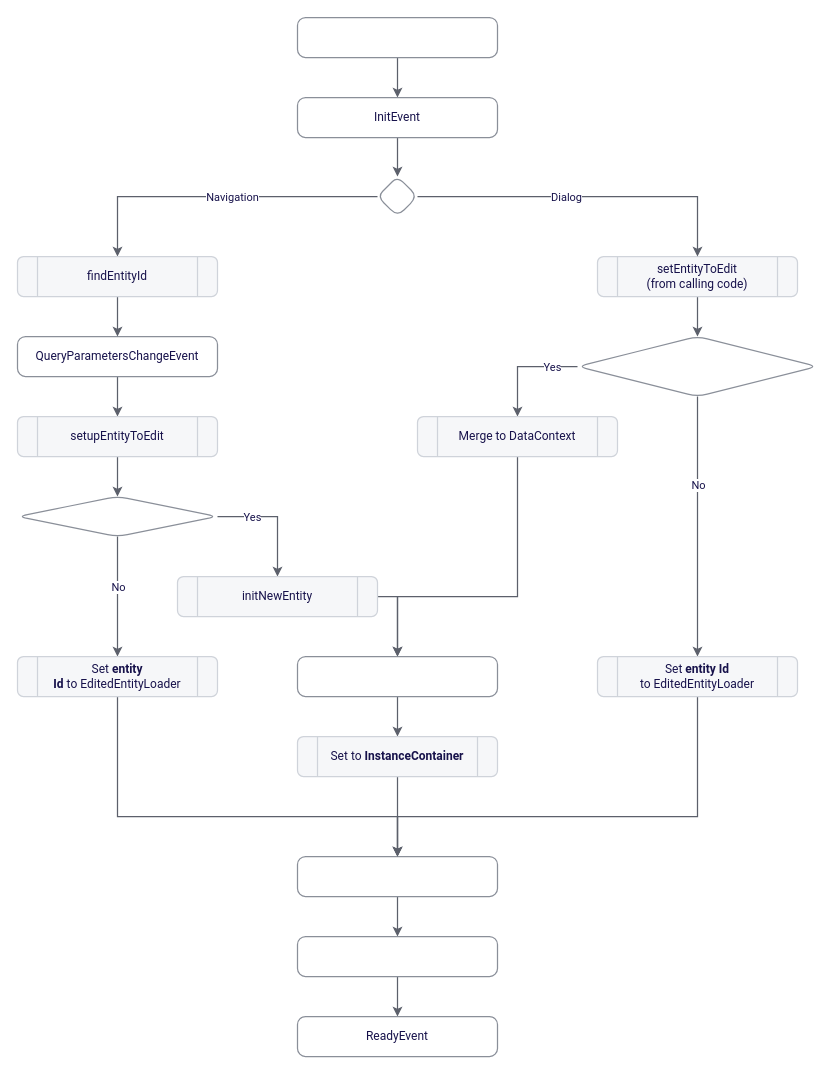
This 836x1075 diagram has some shape labels left out. The centre of each missing label's shape, as x and y in pixels:
"AttachEvent" goes at point 397,956.
"BeforeShowEvent" goes at point 397,876.
"Constructor" goes at point 397,37.
"InitEntityEvent" goes at point 397,676.
"New entity Id?" goes at point 117,516.
"New entity or do not reload?" goes at point 697,366.
